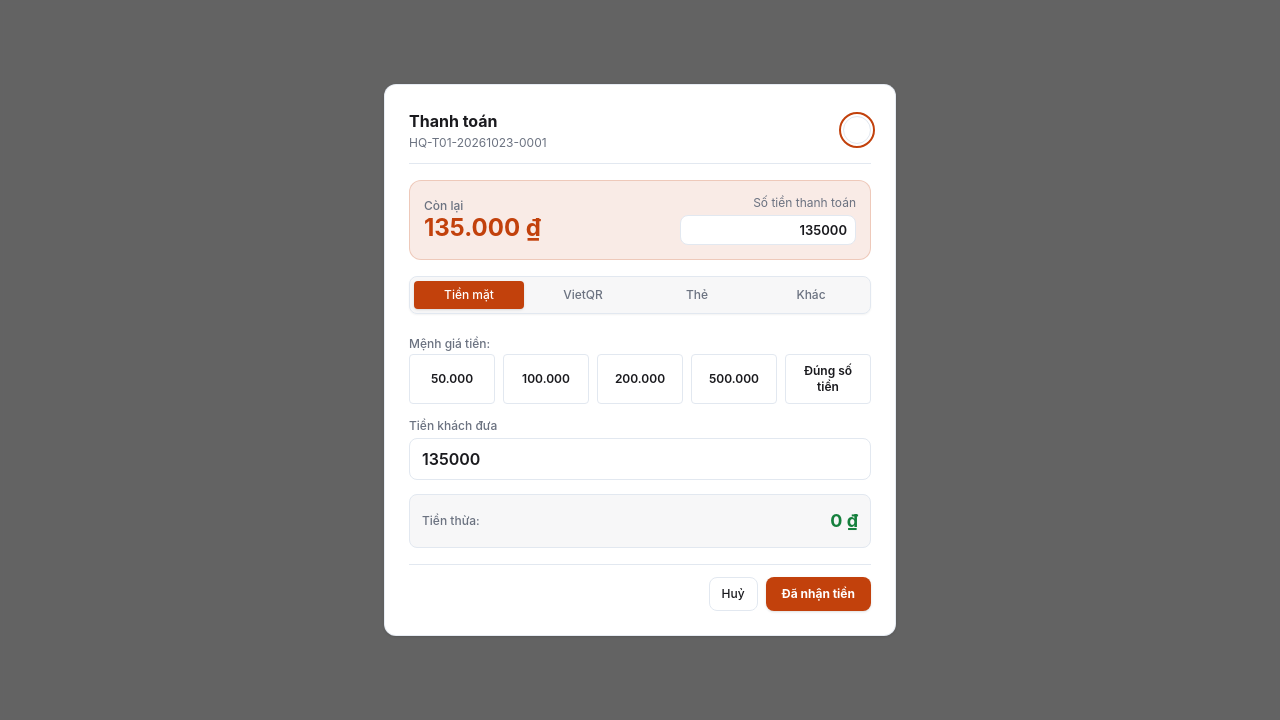
Test: PaymentModal.vue › Cash Tab & Keypad › allows typing custom tendered amount and updates change calculation
The width and height of the screenshot is (1280, 720).
Replace the text in the field below "Tiền khách đưa" with "150000". click: [640, 459]
box: 409,438 -> 871,480
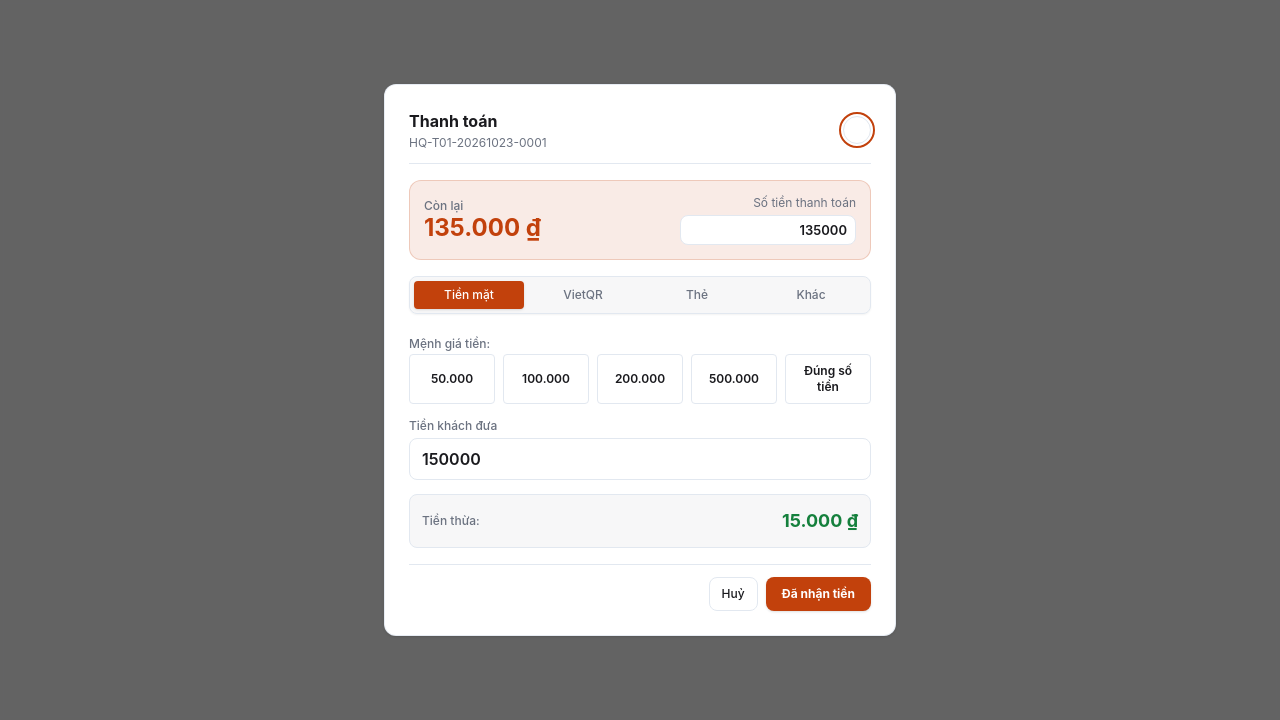
Expected: the text with test id "change-amount" shows "15.000", 782,510 -> 858,531
